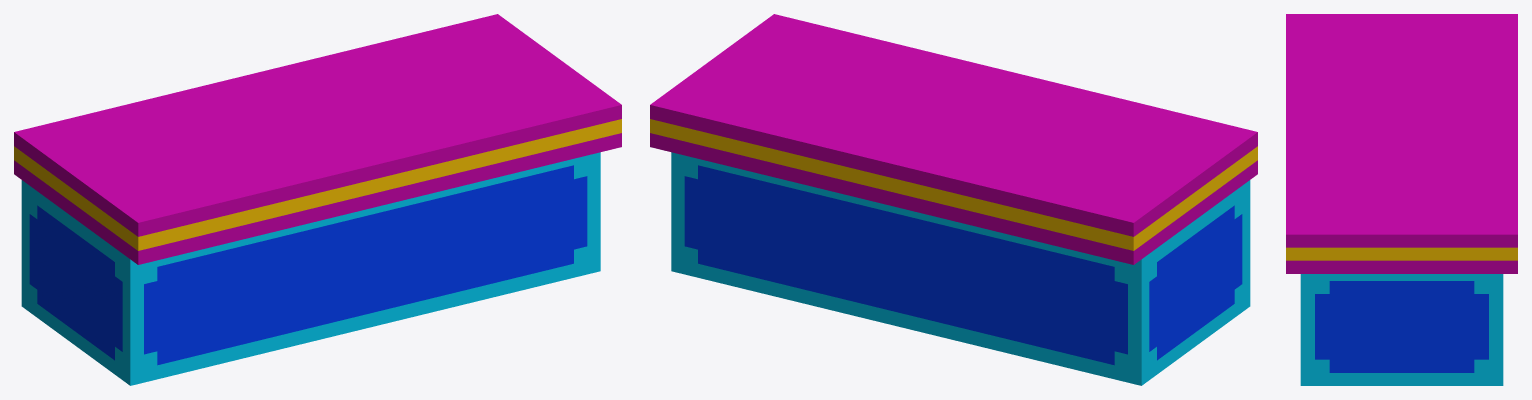
File: wall_2x1.obj
The picture shows the model from 3 angles, left to right: view 1: azimuth 30°, elevation 25°; view 2: azimuth 150°, elevation 25°; view 3: azimuth 270°, elevation 25°; orthographic projection. The views are drawn at different scales.
Size of the model in its own units: 3.6 by 1.2 by 1.6.
Materials: 1 (1 with a texture image).
